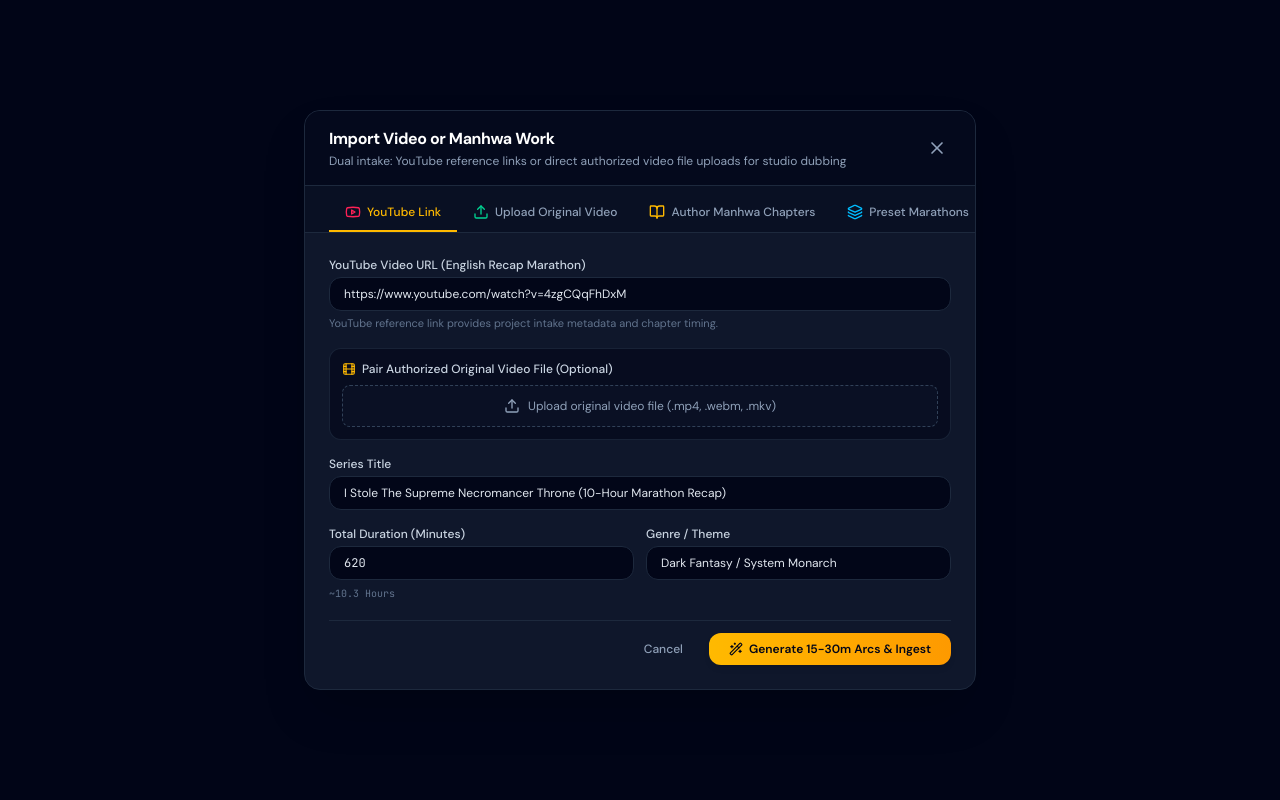
Test: IngestModal dual intake (YouTube and Upload) › switches between YouTube tab and Upload Original Video tab
Expected: the text "YouTube Video URL (English Recap Marathon)" is shown, [329,257,586,273]
Note: Click on Upload Original Video tab
Click the button "Upload Original Video" at (545, 213), box [457,194,633,232]
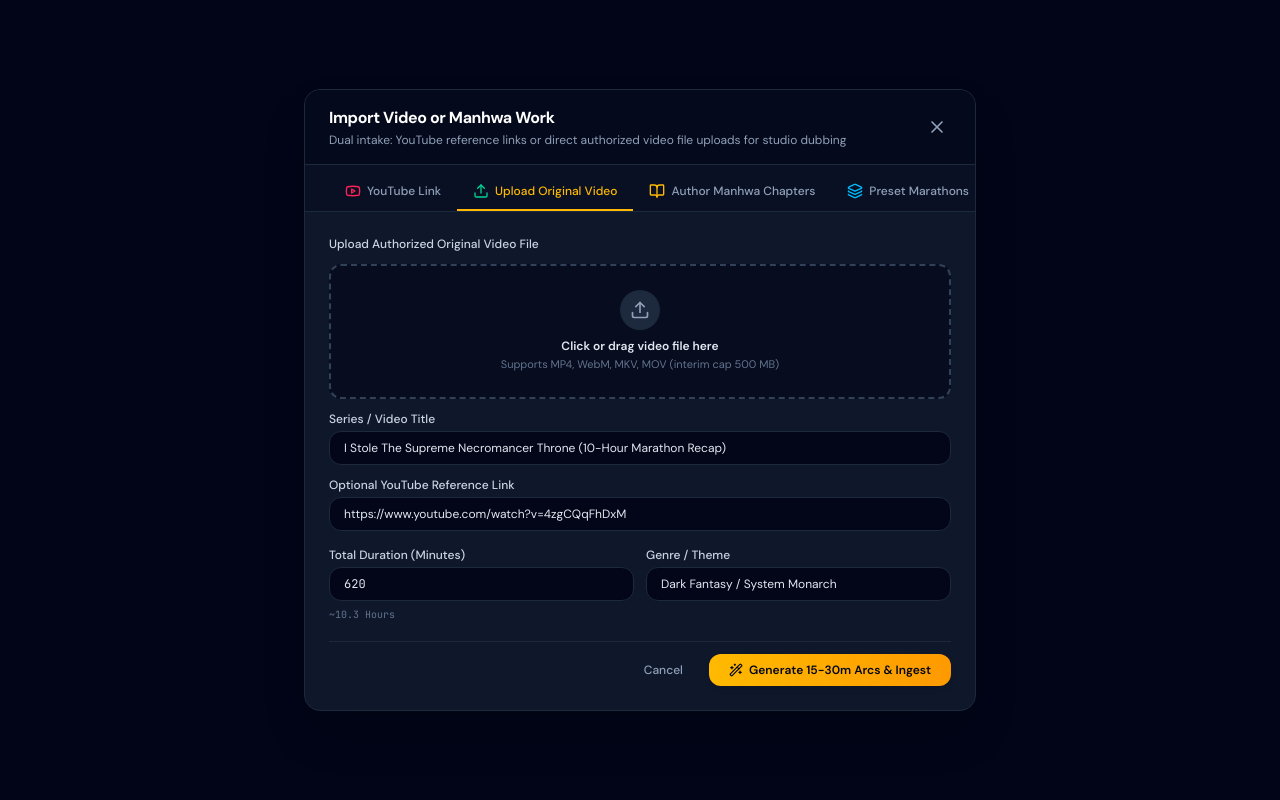
Now the text "Upload Authorized Original Video File" is shown, box [329,236,539,252]
Now the text "Click or drag video file here" is shown, box [561,338,719,354]
